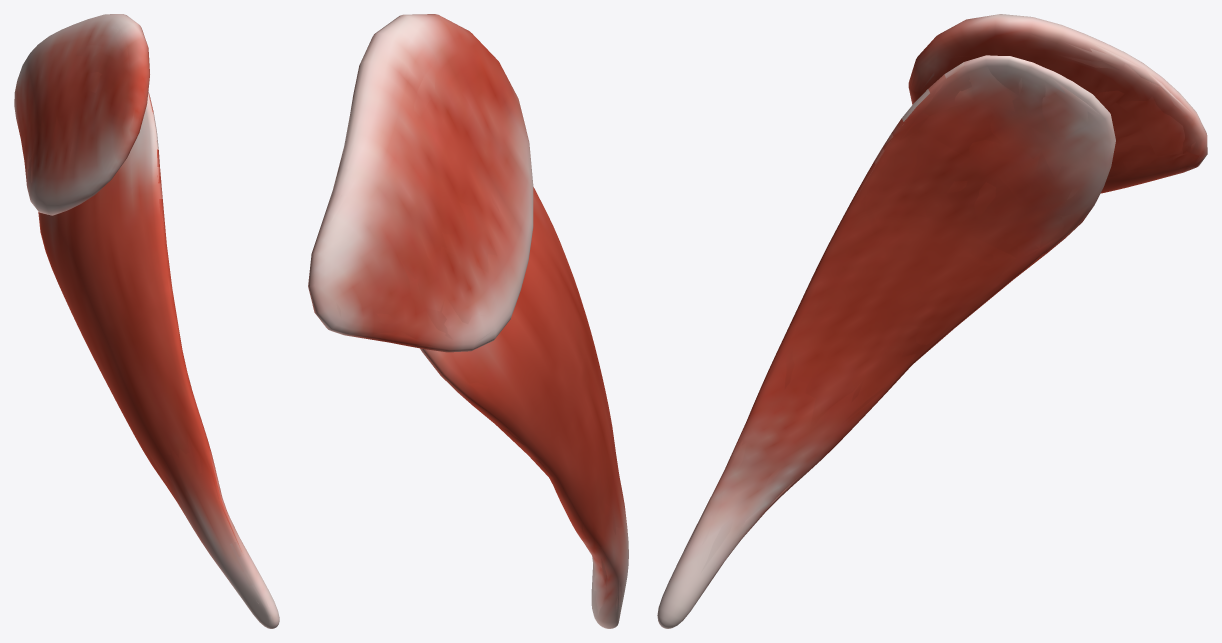
The model's file is R Subscapularis.fbx.
3 renders of one model, left to right at view 1: azimuth 30°, elevation 25°; view 2: azimuth 150°, elevation 25°; view 3: azimuth 270°, elevation 25°, orthographic. The views are drawn at different scales.
Parts seen in each view (by area): view 1: R Subscapularis, R Subscapularis low; view 2: R Subscapularis, R Subscapularis low; view 3: R Subscapularis, R Subscapularis low.
Boxes of the visible parts, x1=… form: R Subscapularis: x1=14, y1=14, x2=279, y2=628; R Subscapularis low: x1=14, y1=20, x2=270, y2=609; R Subscapularis: x1=308, y1=14, x2=628, y2=628; R Subscapularis low: x1=309, y1=15, x2=625, y2=623; R Subscapularis: x1=657, y1=14, x2=1207, y2=628; R Subscapularis low: x1=670, y1=16, x2=1207, y2=619.
Size of the model in its own units: 6.57 by 36.37 by 29.66.
